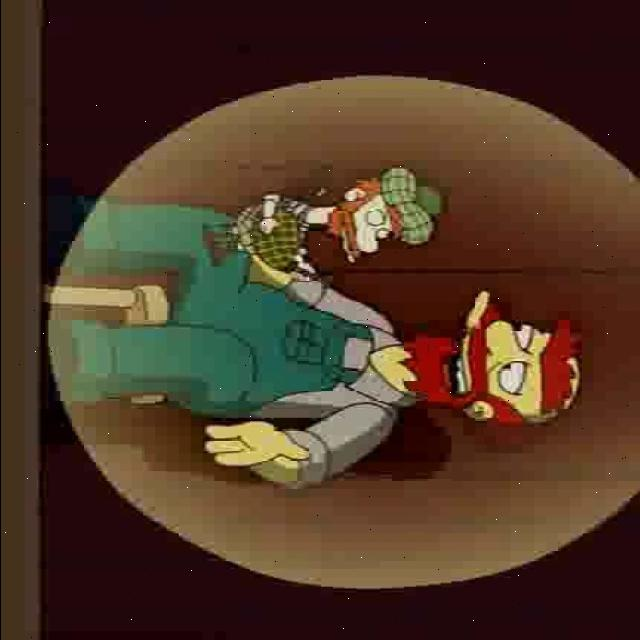Groundskeeper Willie: (386, 286, 583, 454)
